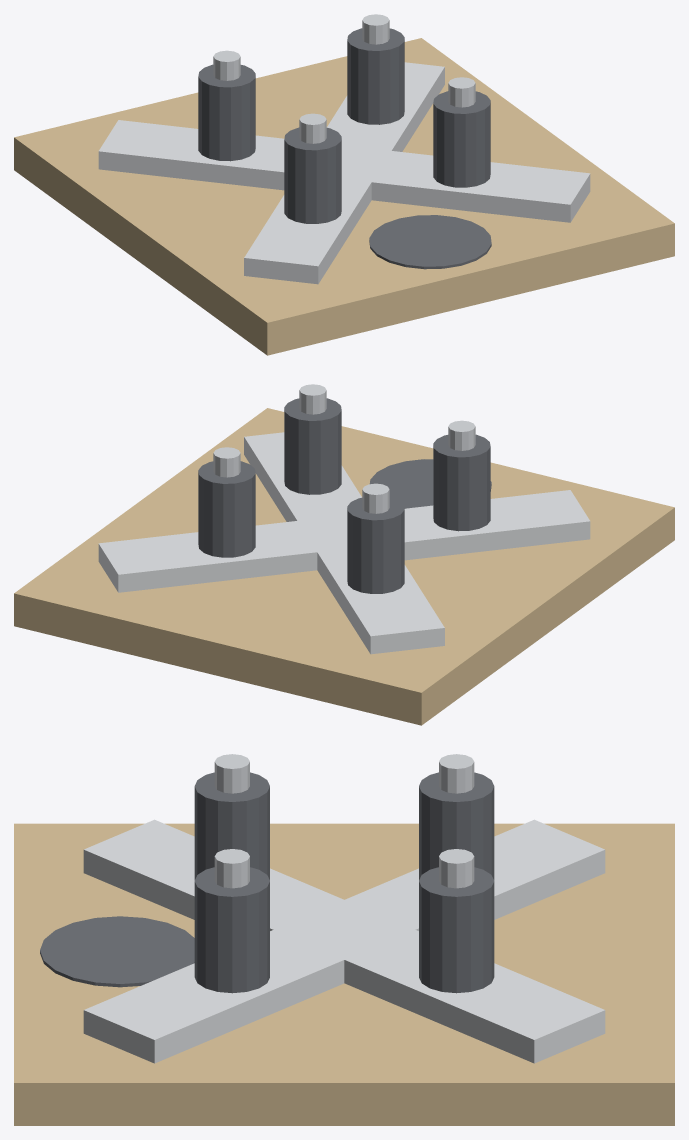
The model's file is soporte_motor.glb.
The picture shows the model from 3 angles, top to bottom: view 1: azimuth 30°, elevation 25°; view 2: azimuth 150°, elevation 25°; view 3: azimuth 270°, elevation 25°; orthographic projection. The views are drawn at different scales.
Parts seen in each view (by area): view 1: SoporteMotor; view 2: SoporteMotor; view 3: SoporteMotor.
Part boxes in pixels (bbox=[...]): SoporteMotor: bbox=[14, 14, 674, 355]; SoporteMotor: bbox=[14, 384, 674, 725]; SoporteMotor: bbox=[14, 754, 674, 1125].
Size of the model in its own units: 0.052 by 0.0195 by 0.056.
